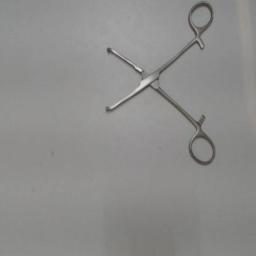Allis Tissue Forceps: (104, 0, 220, 170)
